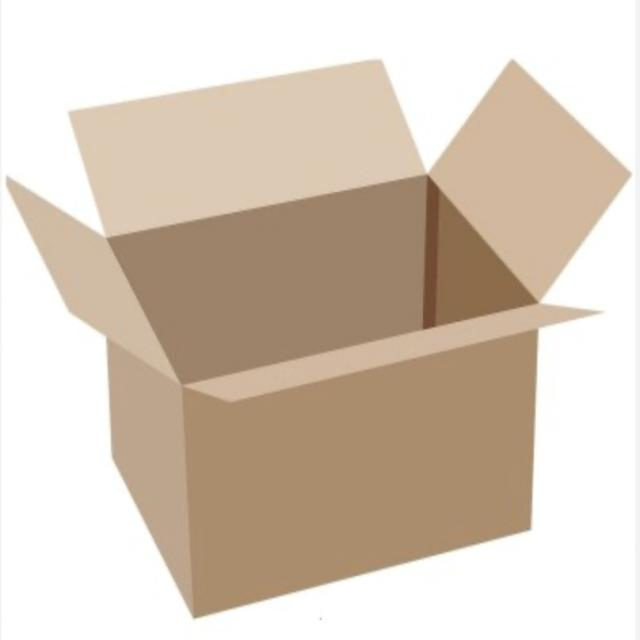biodegradable: (6, 25, 622, 630)
